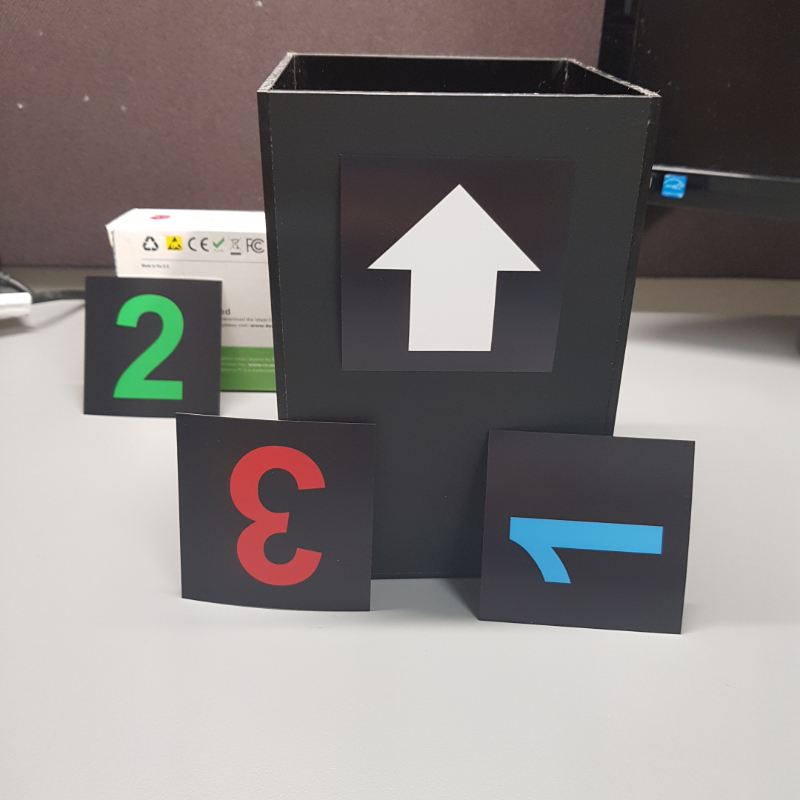One-6: (494, 441, 678, 618)
Three-8: (186, 424, 359, 597)
Two-7: (90, 284, 215, 409)
UA-1: (350, 160, 550, 366)
